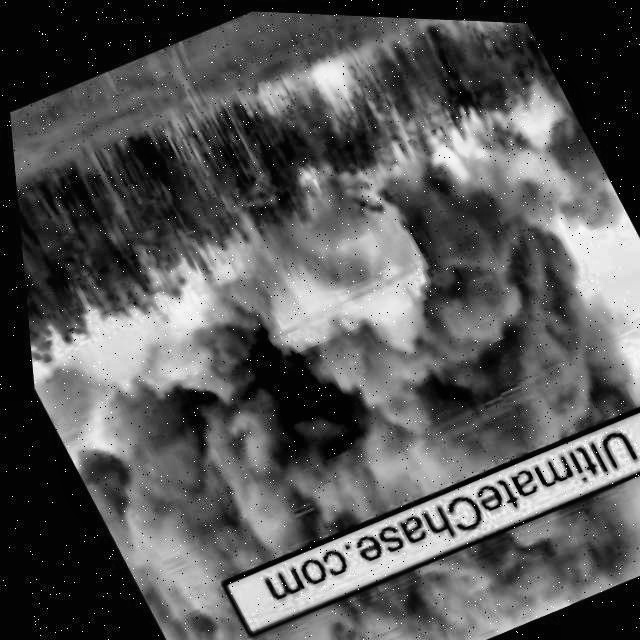Fire: (424, 128, 484, 197), (308, 56, 367, 119), (248, 68, 302, 119), (463, 16, 515, 40)
Smoke: (6, 79, 640, 630), (157, 454, 640, 640)
